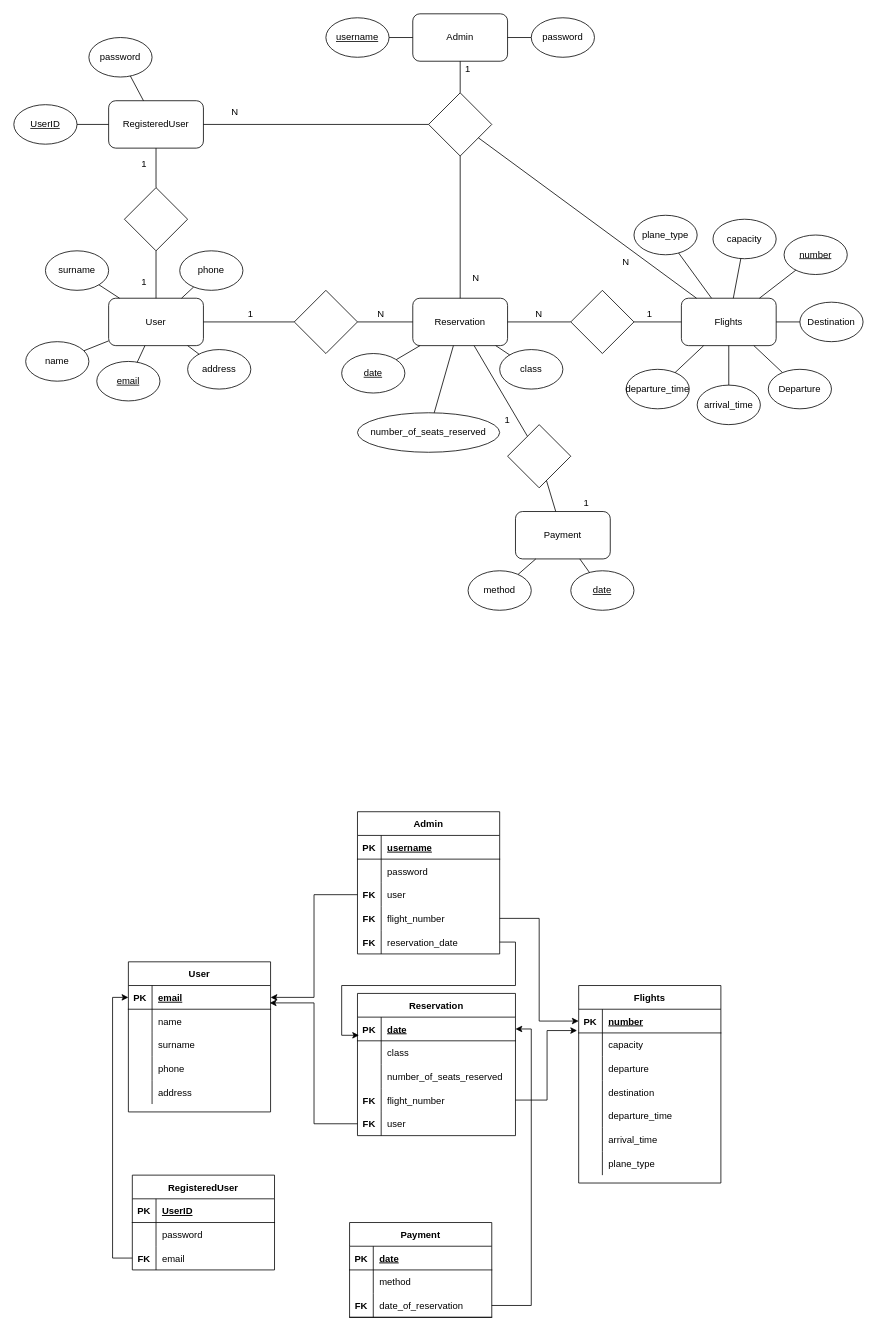
Image size: 877x1331. Some labels were removed from this diagram. The centre of each missing label's shape, as x and y in pixels:
"Create" goes at pixel 325 322.
"For" goes at pixel 602 322.
"Has" goes at pixel 539 456.
"Is" goes at pixel 156 219.
"Manage" goes at pixel 460 124.
